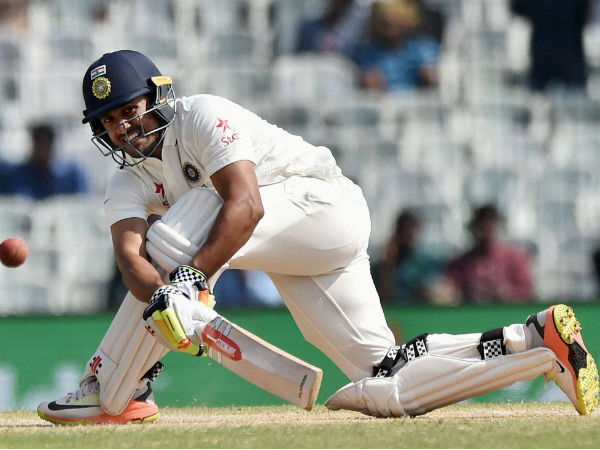Sweepshot: (1, 14, 596, 450)
